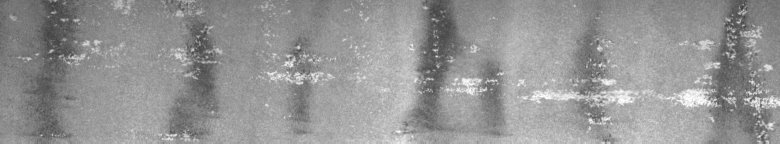hc: (704, 4, 776, 136)
